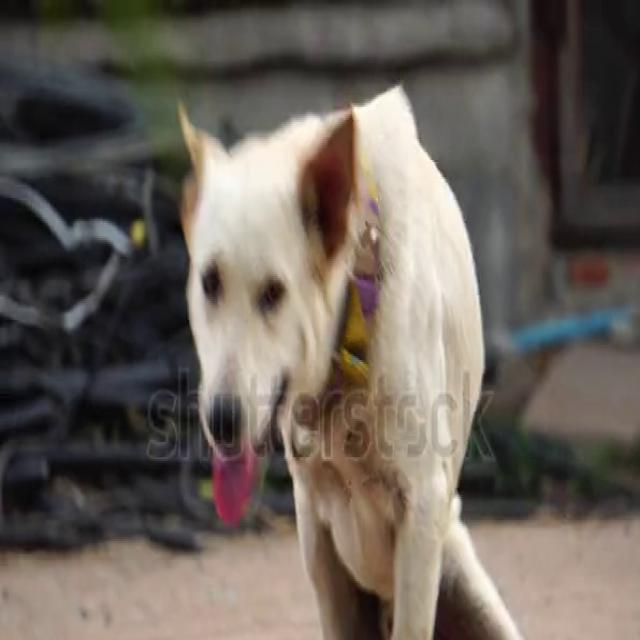normal_animals: (172, 80, 538, 638)
